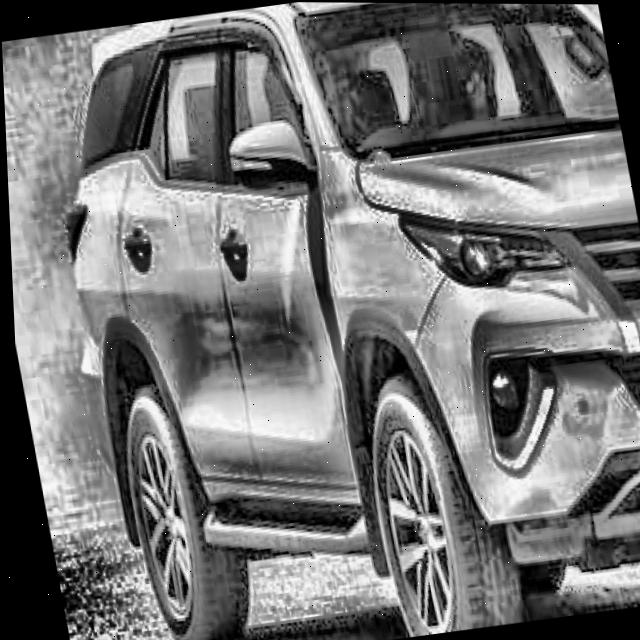light_vehicle: (17, 0, 640, 640)
